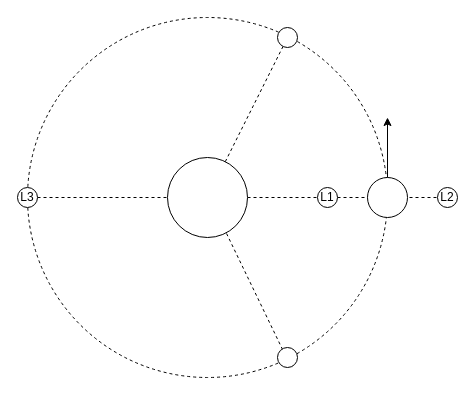
Some shapes in this 475 by 395 pixel diagram are drawn without their labels. Each missing label, with the centre of its shape:
L4: [287,37]
L5: [287,357]
